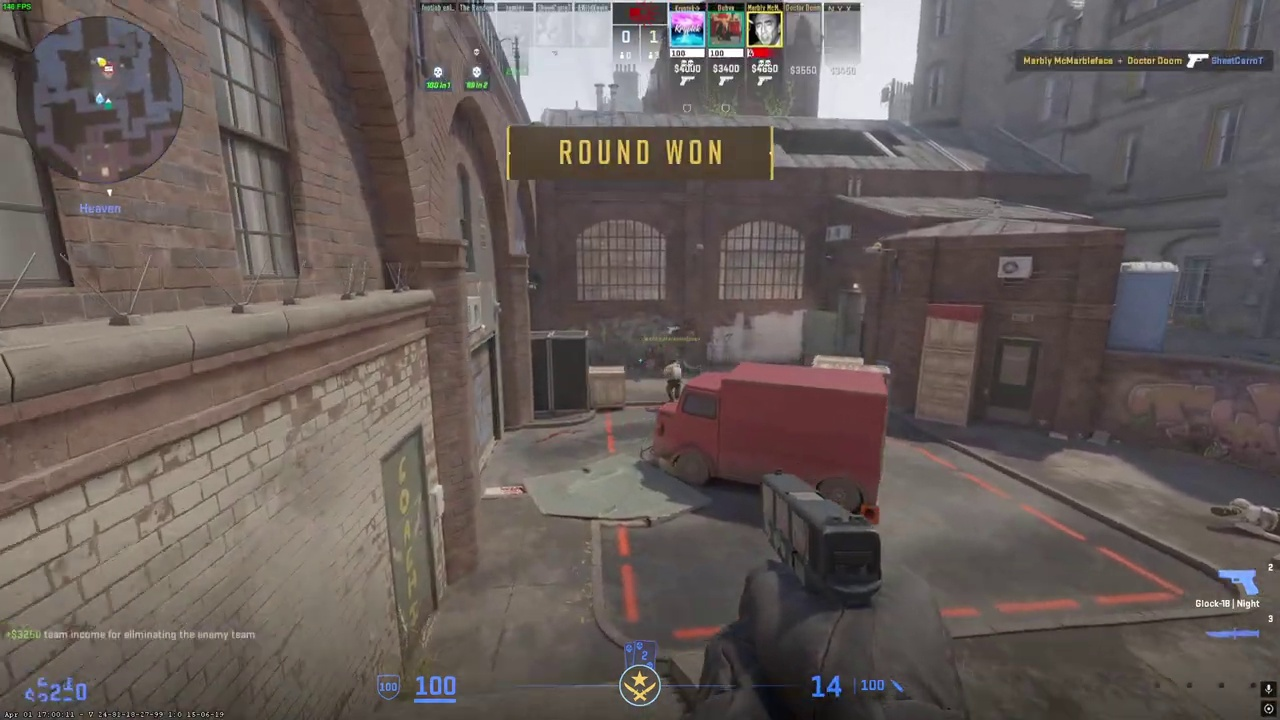Terrorist: (663, 359, 682, 403)
